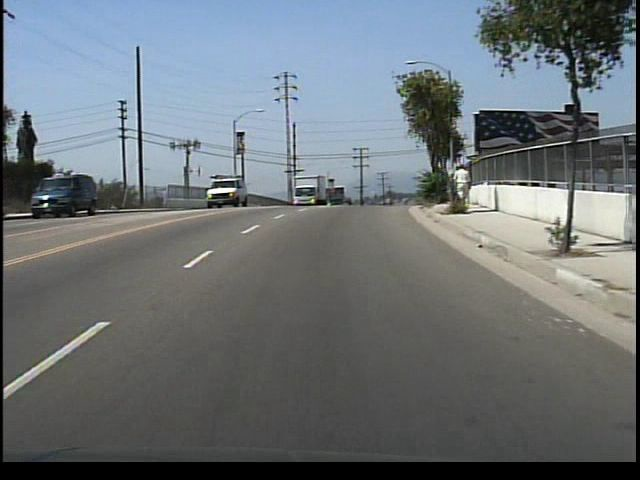person: (451, 162, 472, 198)
